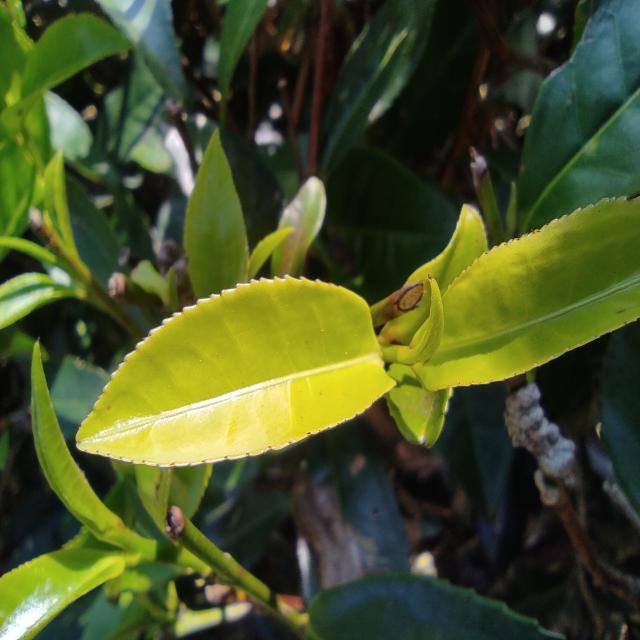Category C(4-7 days): (50, 250, 408, 484)
